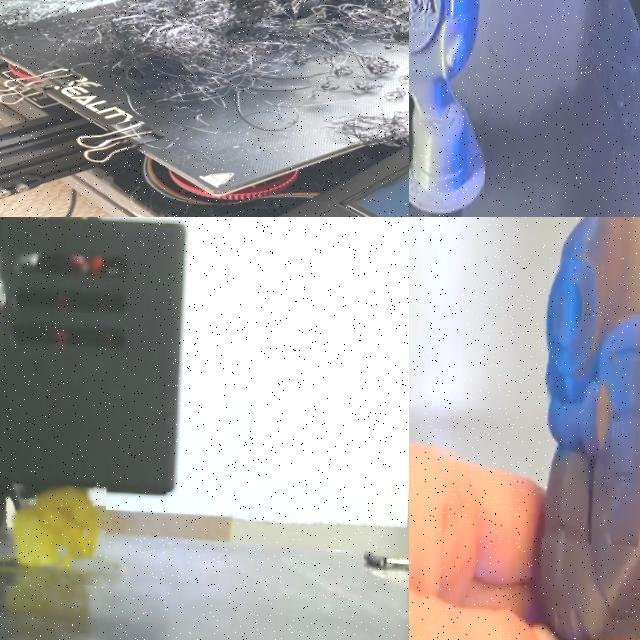spaghetti: (0, 0, 409, 103), (0, 482, 106, 588), (319, 104, 409, 147)
